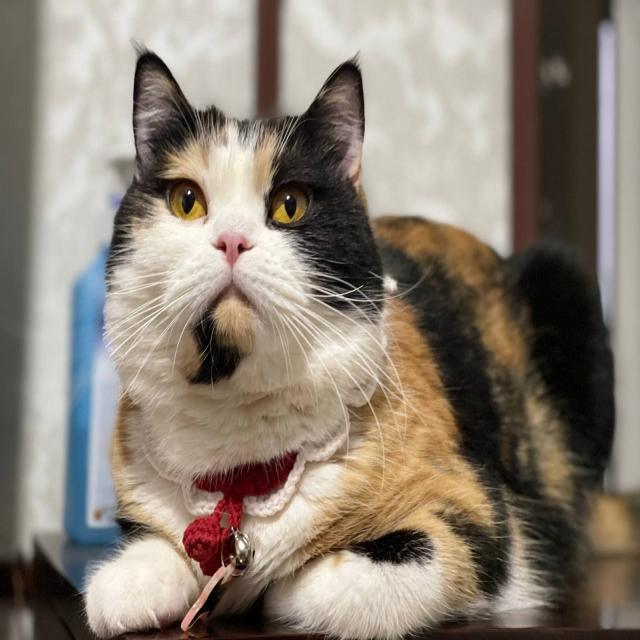da khoe manh: (248, 246, 527, 524)
